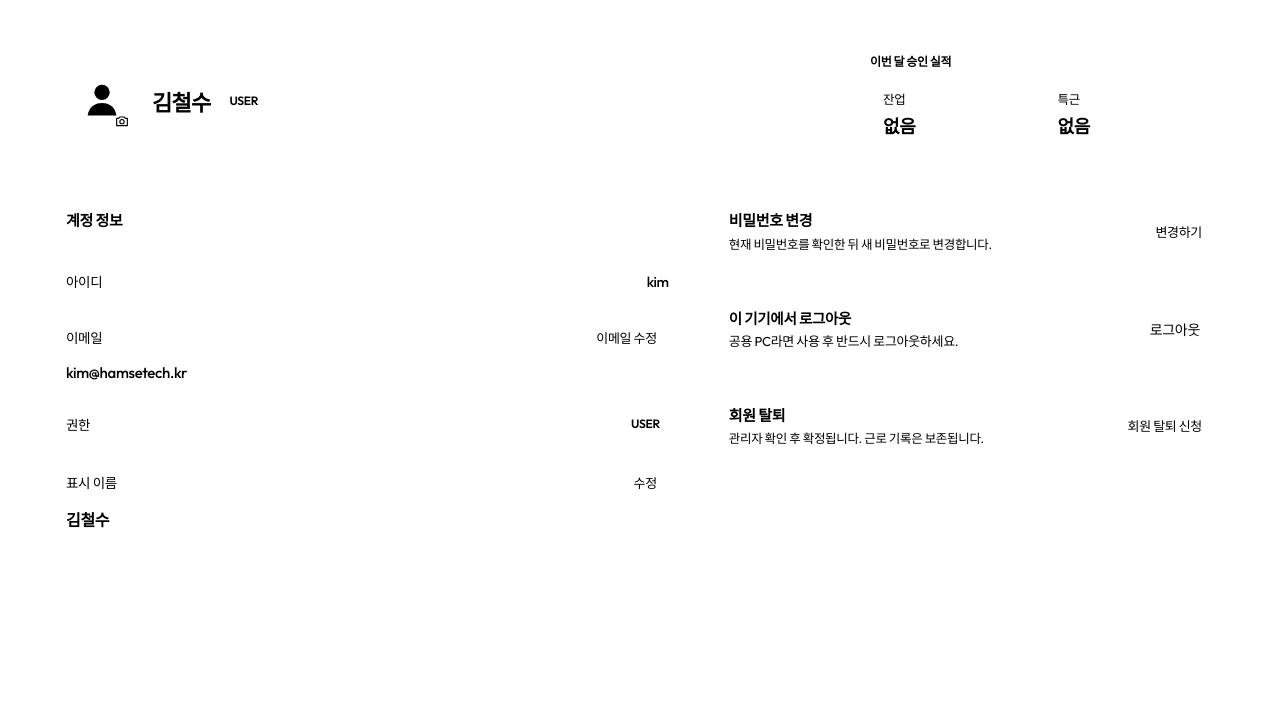
Test: ProfilePage — 비밀번호 변경 › 8자 미만이면 서버에 보내지 않는다
The width and height of the screenshot is (1280, 720).
Expected: the text "김철수" in the row of "잔업" is shown, [152,88,210,116]
Click the button "변경하기": (1179, 231) [1143,215,1214,247]
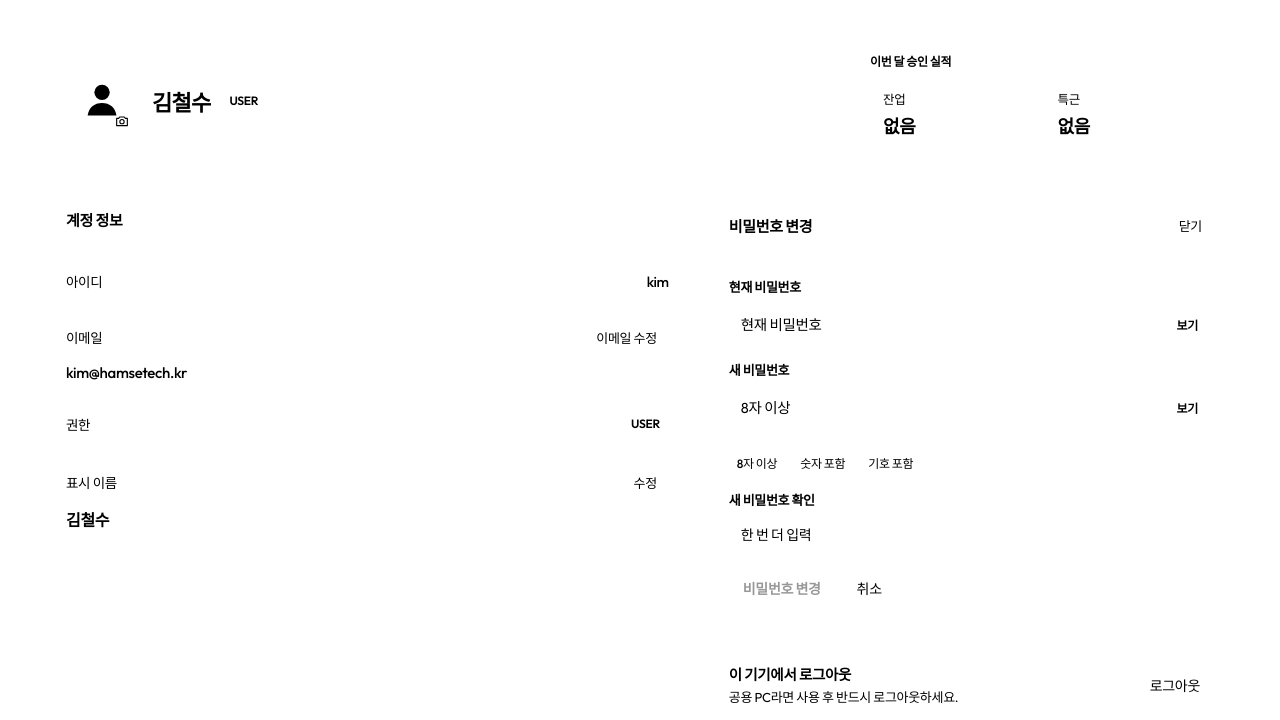
Expected: the password field with placeholder "현재 비밀번호" is shown
In the password field with placeholder "현재 비밀번호": (971, 324) [729,303,1214,345], type "old1234"
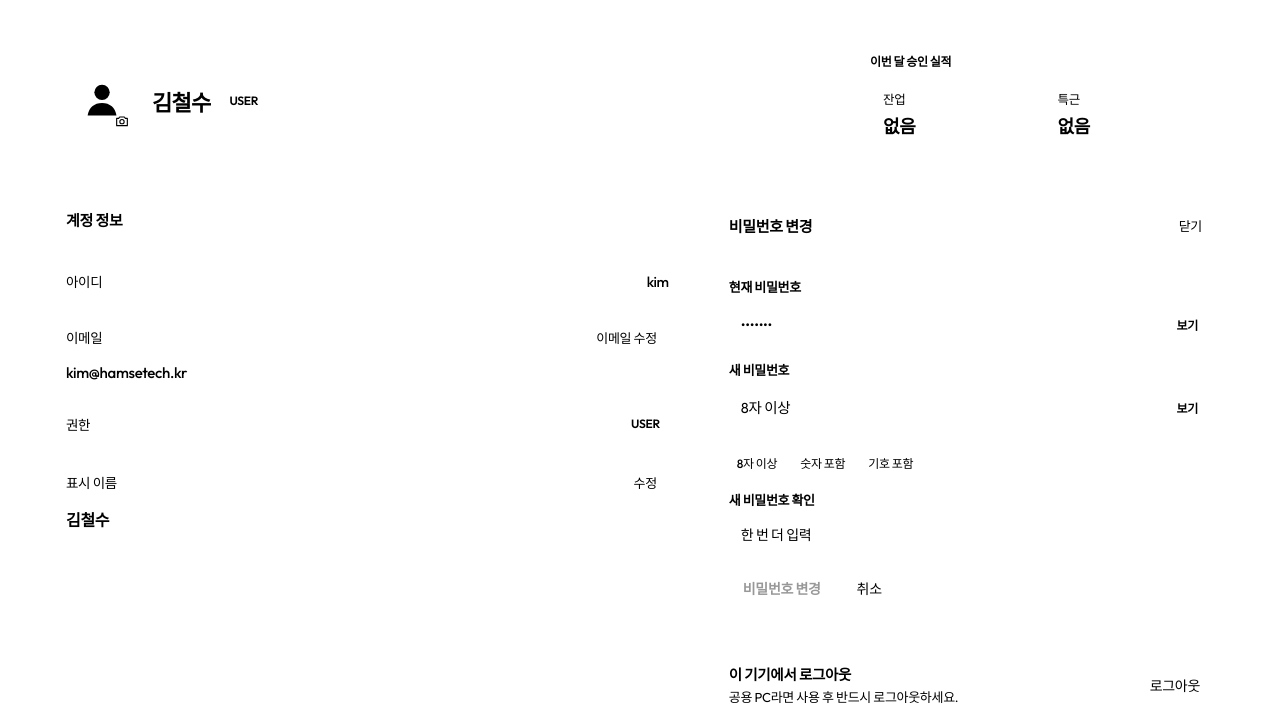
In the password field with placeholder "8자 이상": (971, 407) [729,386,1214,428], type "short1!"
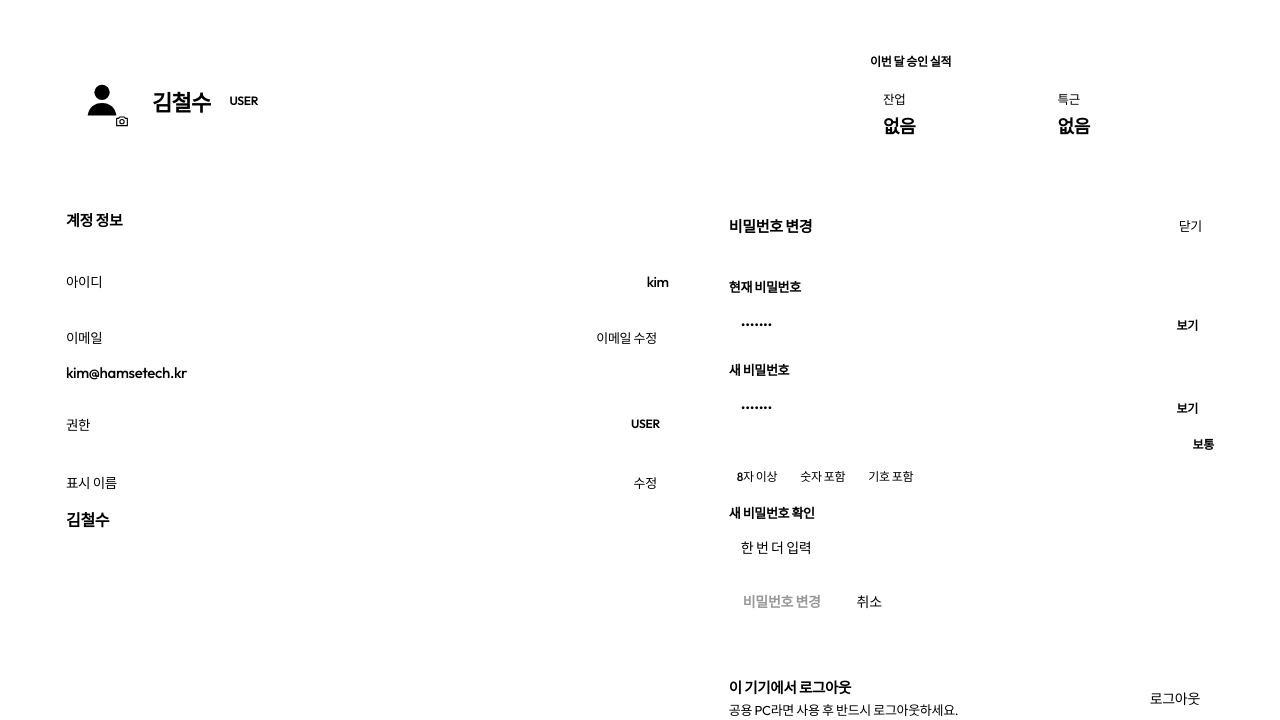
In the password field with placeholder "한 번 더 입력": (971, 548) [729,529,1214,567], type "short1!"
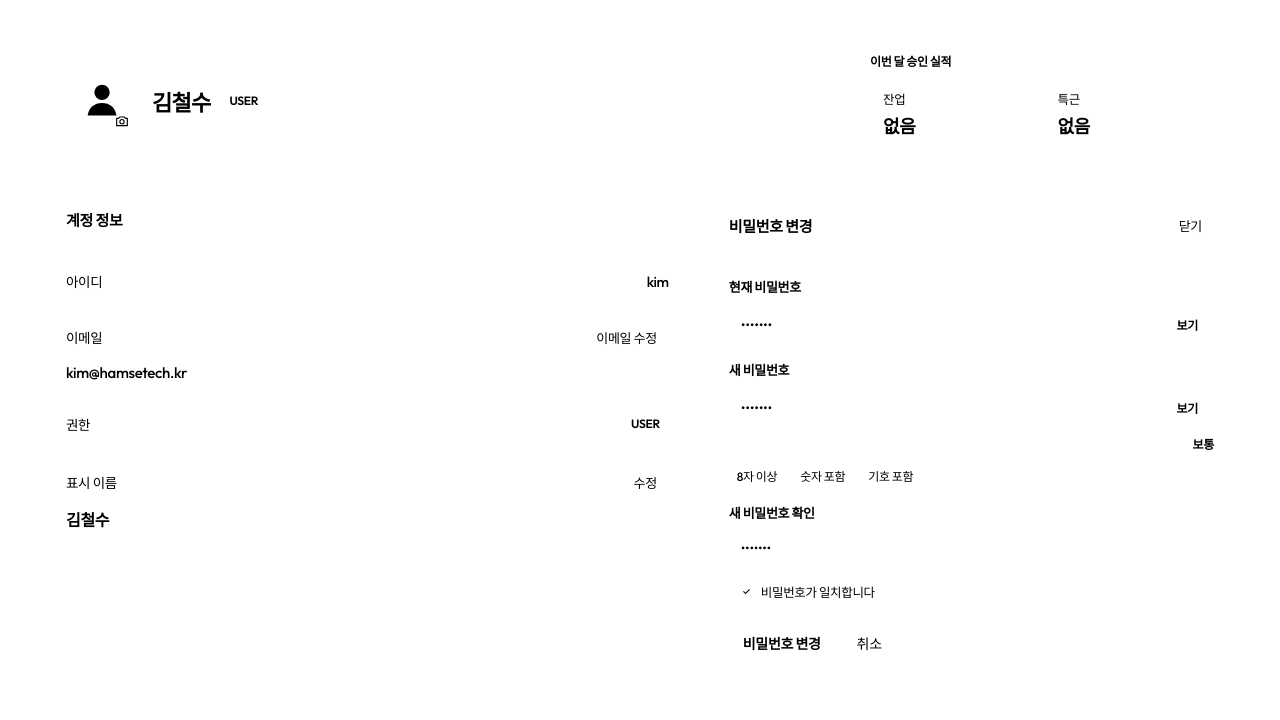
Click the button "비밀번호 변경": (782, 643) [729,624,835,662]
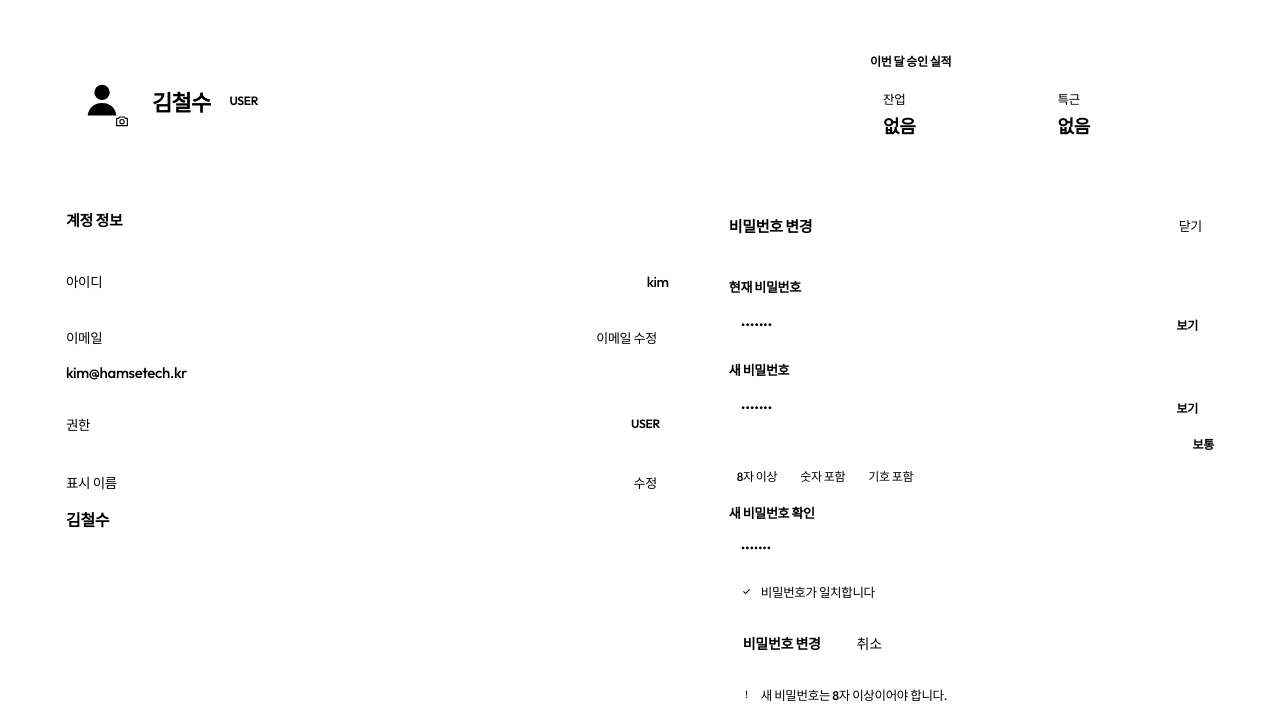
Expected: the text "새 비밀번호는 8자 이상이어야 합니다." is shown, [761,687,947,703]
